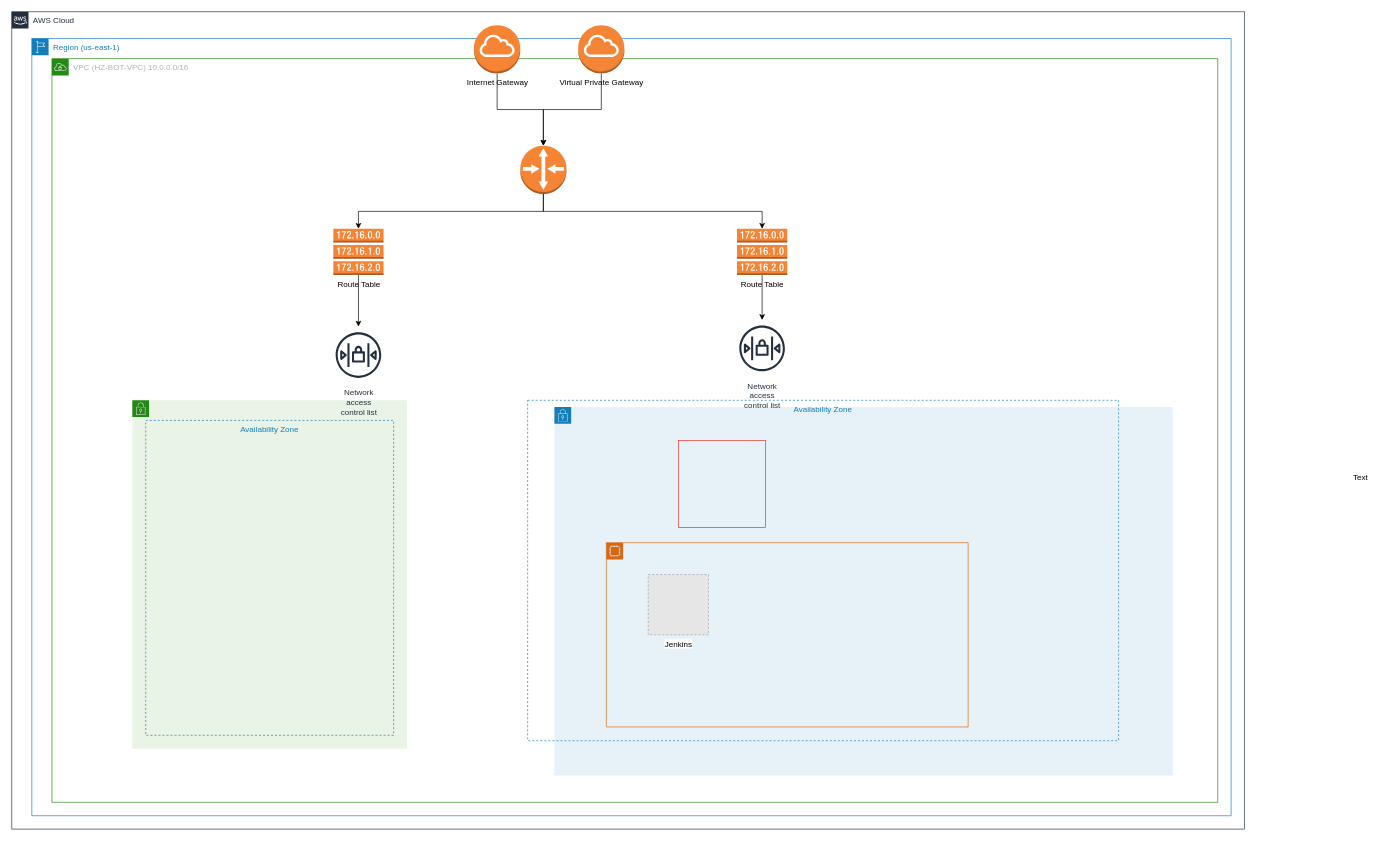
This 1386x841 diagram has some shape labels left out. Grey dashed boxes stand in for pictures. Each missing label, with the box of its shape:
EC2 instance contents: (606, 542, 968, 727)
Private subnet (10.0.2.0/24): (554, 406, 1173, 776)
Public subnet (10.0.1.0/24): (132, 400, 407, 749)
router: (520, 145, 566, 194)
Security group: (678, 440, 765, 528)
